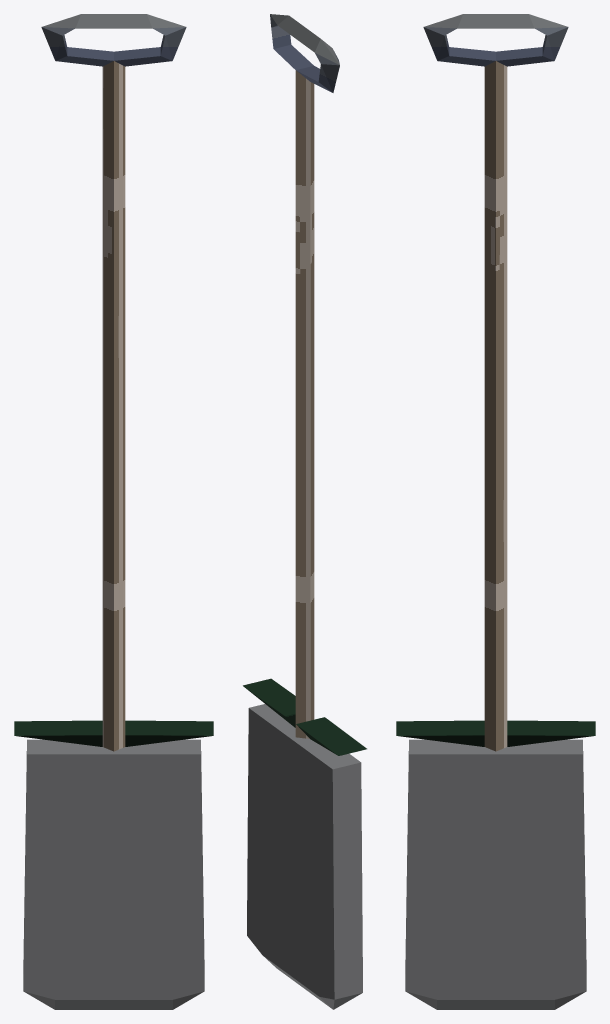
Rendered from phuvel.gltf.
The picture shows the model from 3 angles, left to right: view 1: azimuth 90°, elevation 25°; view 2: azimuth 210°, elevation 25°; view 3: azimuth 270°, elevation 25°; orthographic projection. The views are drawn at different scales.
Visible parts, largest first — view 1: Broken Shovel; view 2: Broken Shovel; view 3: Broken Shovel.
Boxes of the visible parts, <box> form: Broken Shovel: <box>14,14,213,1009</box>; Broken Shovel: <box>243,14,366,1009</box>; Broken Shovel: <box>396,14,595,1009</box>.
Size of the model in its own units: 0.2445 by 7.78 by 1.41.
Materials: 1 (1 with a texture image).
